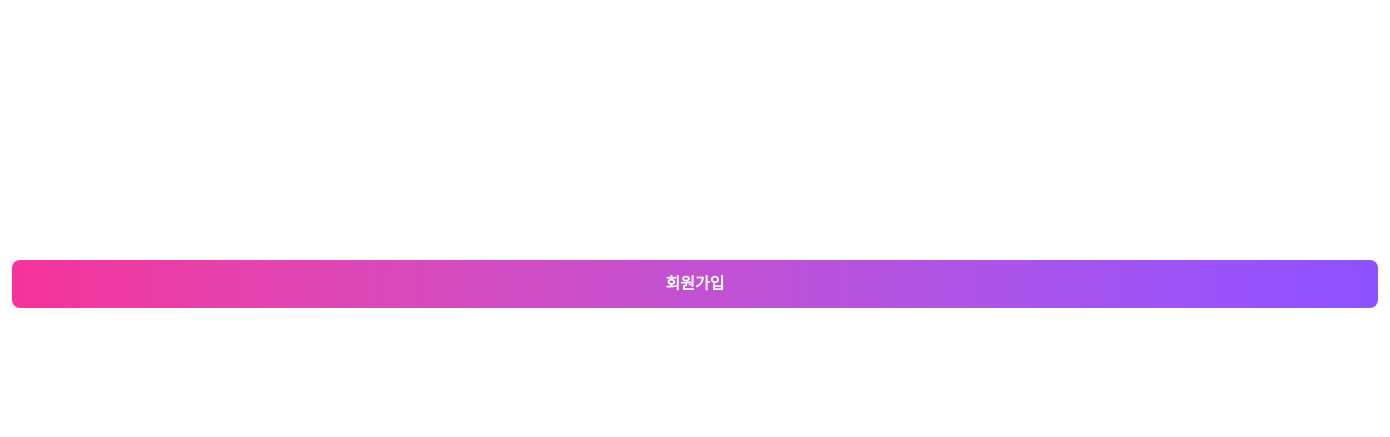
Scenario: SignupForm › 필수 입력 필드가 비어 있으면 에러 메시지가 표시되어야 한다.
What coordinates should you click on to do the following:
click the button "회원가입"
I would click on:
 (695, 284)
Its box is [12,260,1378,308].
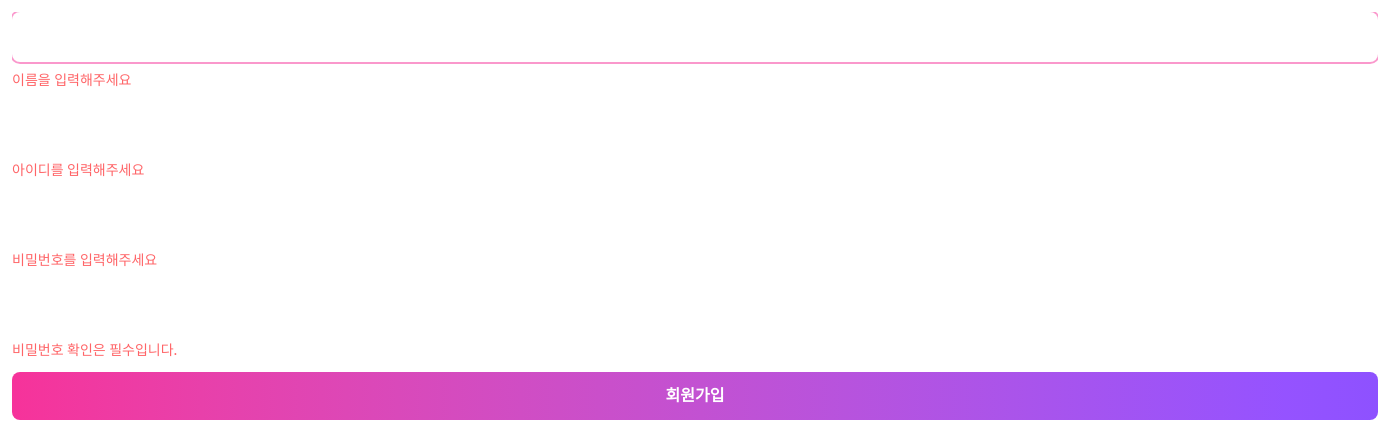
Result: the text "이름을 입력해주세요" is shown at [12,72,131,88]
Result: the text "아이디를 입력해주세요" is shown at [12,162,144,178]
Result: the text "비밀번호를 입력해주세요" is shown at [12,252,157,268]
